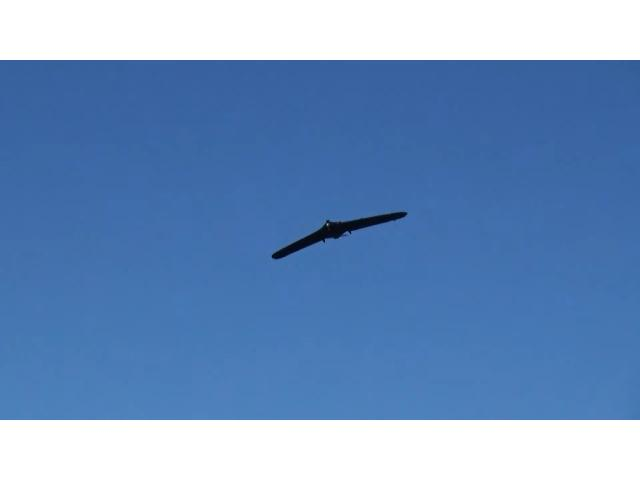Anti-Drone: (272, 192, 412, 276)
